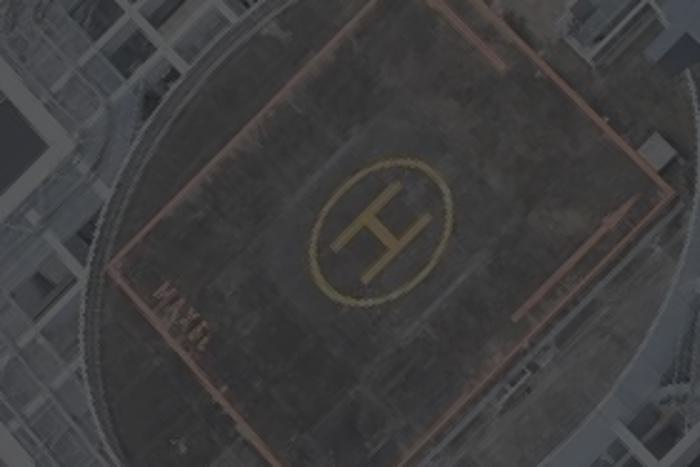Apron: (299, 153, 484, 325)
